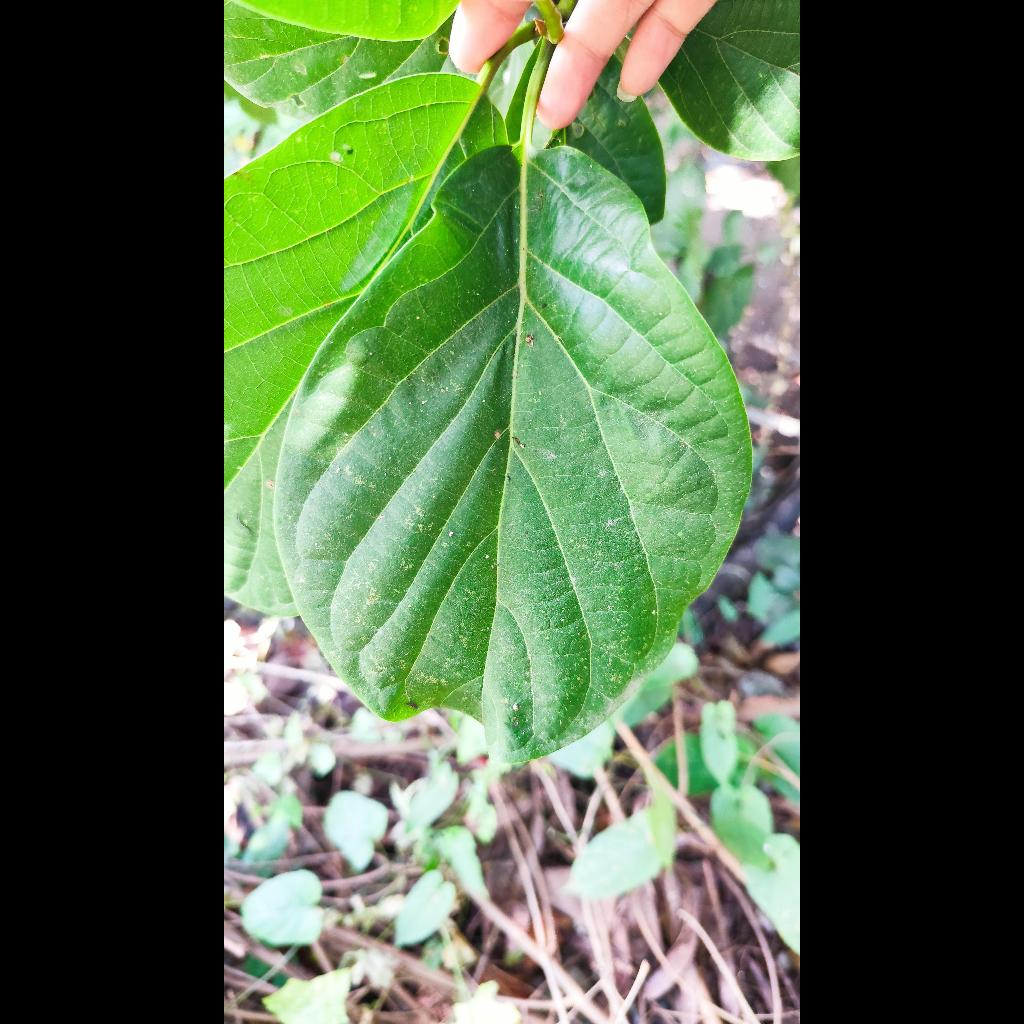Healthy: (275, 146, 750, 761)
